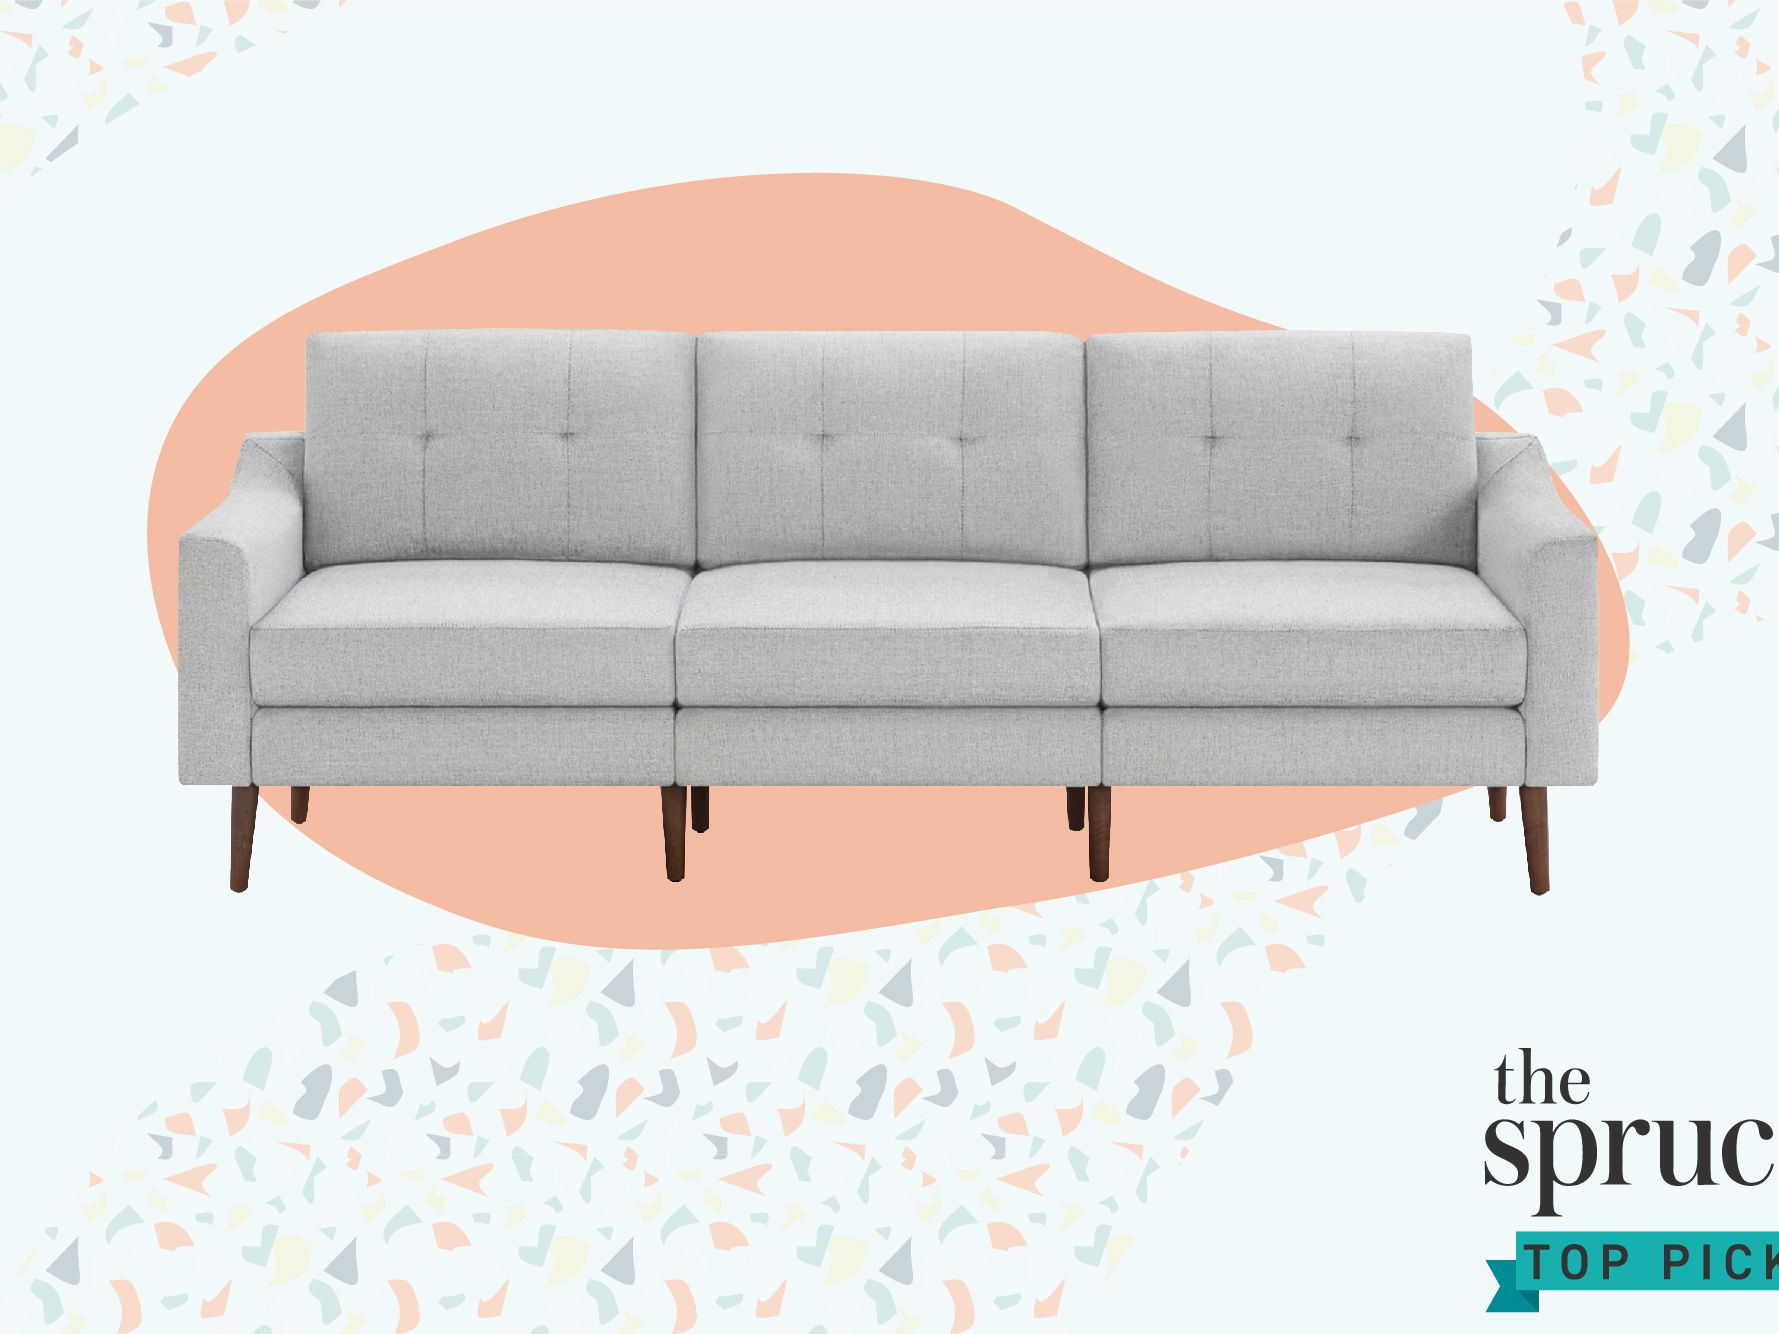sova: (106, 227, 1638, 944)
